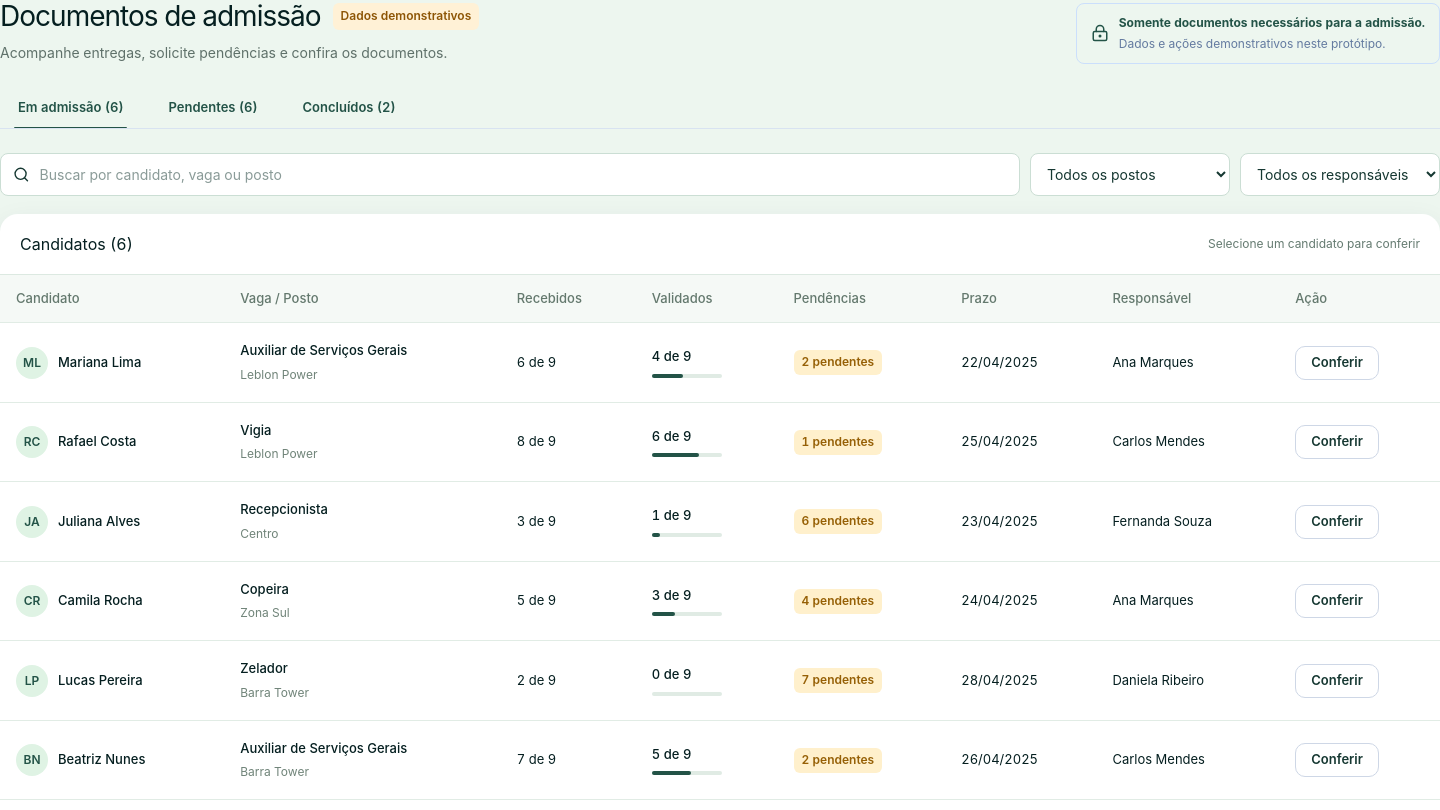
Scenario: Documentos de admissão › shows a full list and opens nine candidate-specific documents
Click the button with aria-label "Abrir documentos de Mariana Lima" at (79, 363), box 16,347 -> 141,379
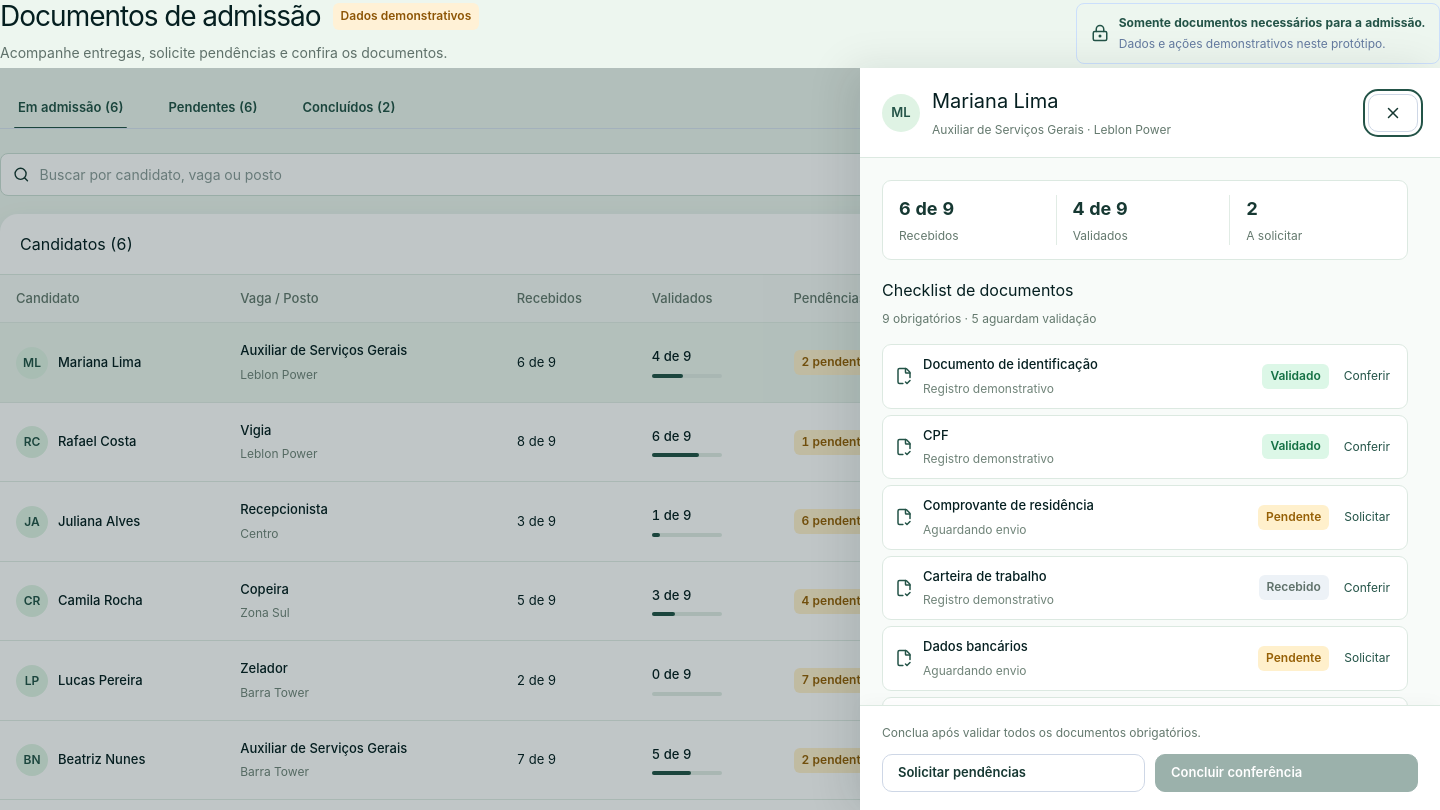
Check: the button "Concluir conferência" is disabled, box 1155,754 -> 1418,792
Press Escape
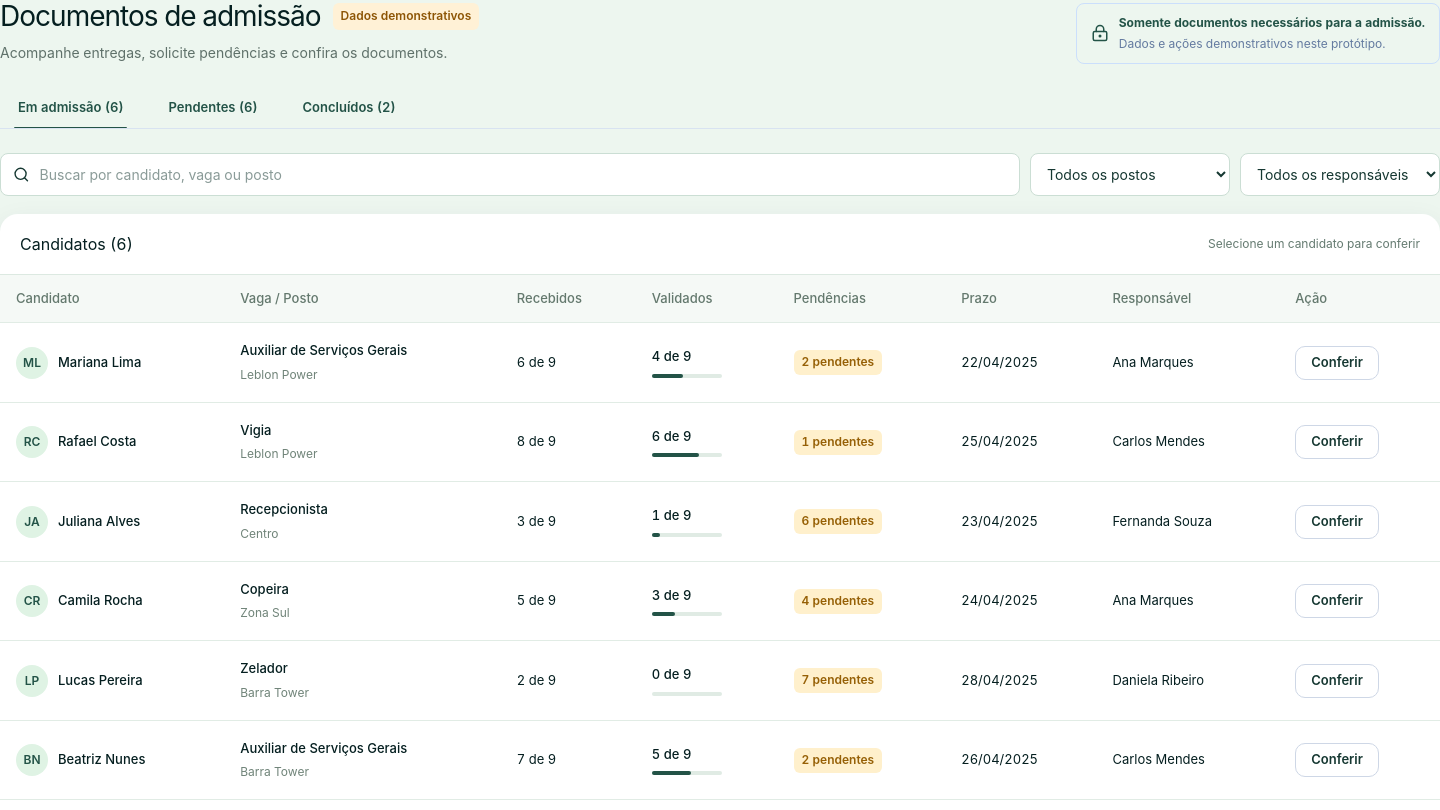
Check: the dialog is gone
